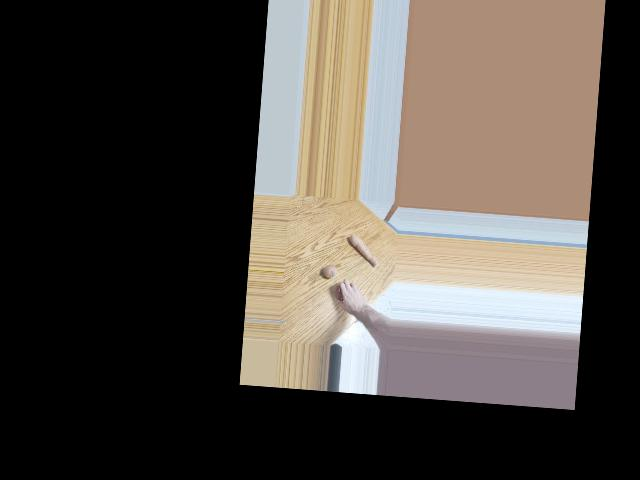onion: (333, 283, 347, 298)
